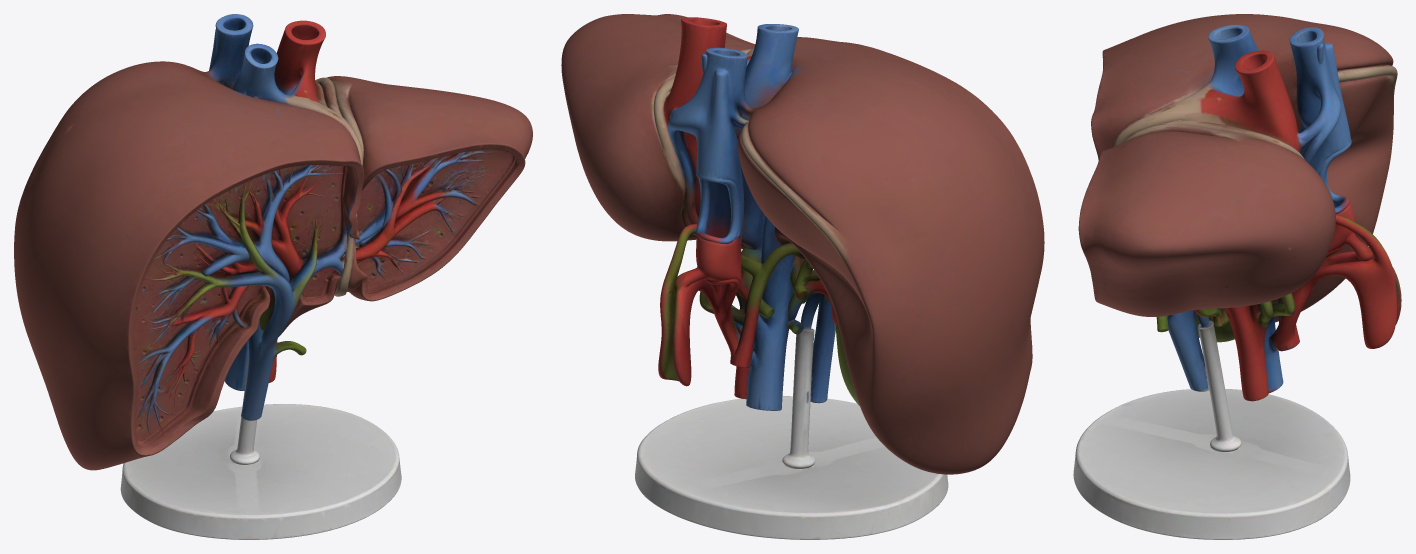
The model's file is liver.glb.
The picture shows the model from 3 angles, left to right: view 1: azimuth 30°, elevation 25°; view 2: azimuth 150°, elevation 25°; view 3: azimuth 270°, elevation 25°; orthographic projection. The views are drawn at different scales.
Parts seen in each view (by area): view 1: node_0; view 2: node_0; view 3: node_0.
Part boxes in pixels (x1,y1,x2,y2): node_0: (14, 14, 532, 539); node_0: (561, 14, 1044, 539); node_0: (1073, 14, 1401, 539).
Bounding box in the file's own units: 1.02 × 0.95 × 0.6242.
1 material, 1 textured.
